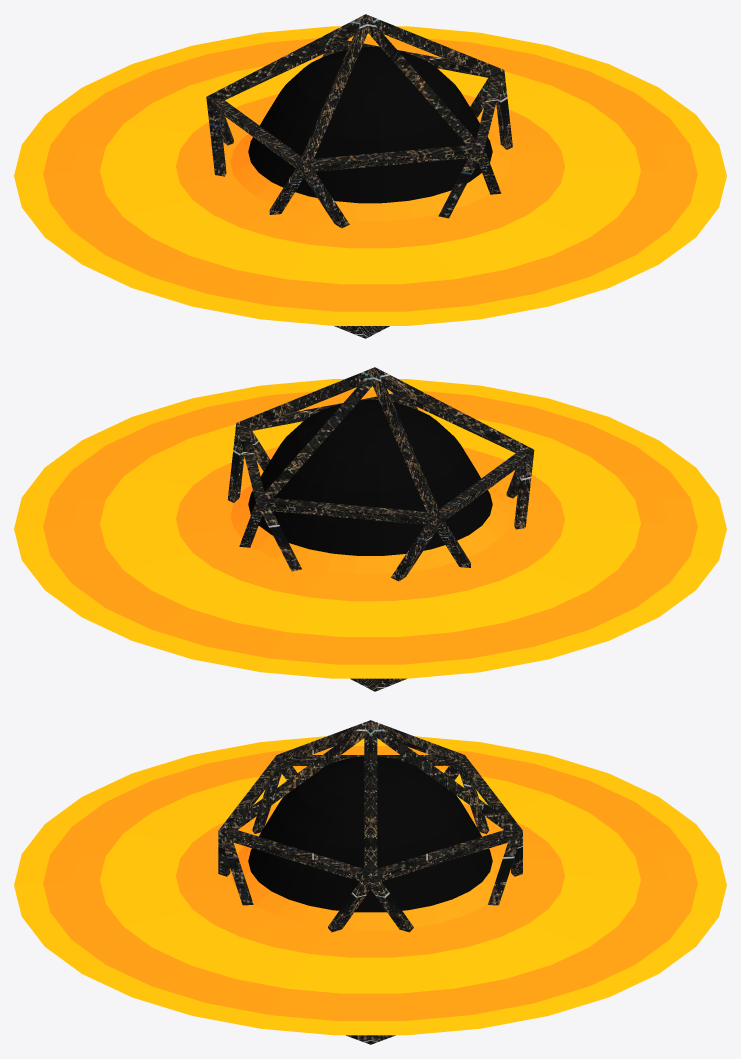
Rendered from blackHole.glb.
3 views of the same model, one above another, from view 1: azimuth 30°, elevation 25°; view 2: azimuth 150°, elevation 25°; view 3: azimuth 270°, elevation 25° (orthographic).
Visible parts, largest first — view 1: Sphere, Icosphere; view 2: Sphere, Icosphere; view 3: Sphere, Icosphere.
Part boxes in pixels (x1,y1,x2,y2): Sphere: (14,26,726,325); Icosphere: (206,14,512,338); Sphere: (14,379,726,678); Icosphere: (227,367,534,691); Sphere: (14,736,726,1035); Icosphere: (218,720,522,1044).
Size of the model in its own units: 25.38 by 12.82 by 25.52.
Materials: 4 (1 with a texture image).
